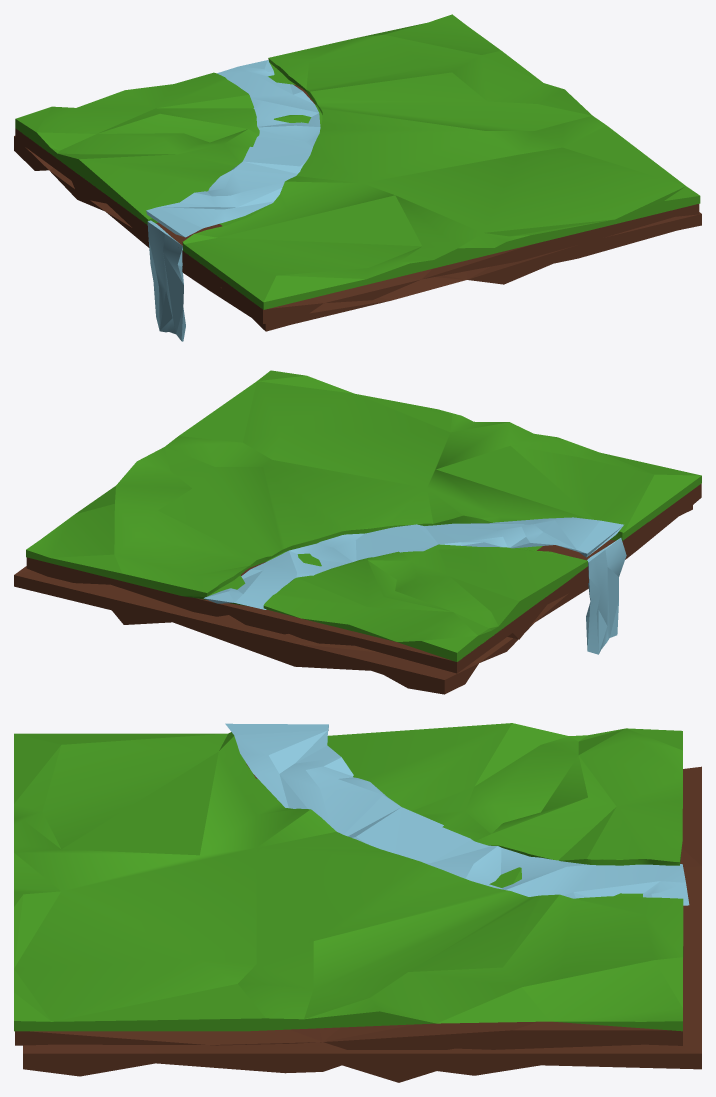
The model's file is Terrain_004.FBX.
3 views of the same model, one above another, from view 1: azimuth 30°, elevation 25°; view 2: azimuth 150°, elevation 25°; view 3: azimuth 270°, elevation 25° (orthographic). The views are drawn at different scales.
Visible parts, largest first — view 1: Box002, Box005, Box003, Box048, Box006; view 2: Box002, Box048, Box005, Box003, Box006; view 3: Box002, Box005, Box048, Box003.
Part boxes in pixels (box(x1,y1,x2,y2)): Box002: box(15, 14, 700, 309); Box005: box(146, 60, 320, 237); Box003: box(15, 84, 699, 323); Box048: box(14, 136, 701, 331); Box006: box(147, 220, 185, 341); Box002: box(26, 370, 701, 661); Box048: box(14, 505, 692, 694); Box005: box(203, 517, 623, 609); Box003: box(26, 483, 701, 673); Box006: box(586, 538, 626, 654); Box002: box(14, 723, 683, 1031); Box005: box(225, 723, 689, 905); Box048: box(23, 766, 701, 1082); Box003: box(15, 763, 682, 1049).
Bounding box in the file's own units: 229 × 56.93 × 227.
